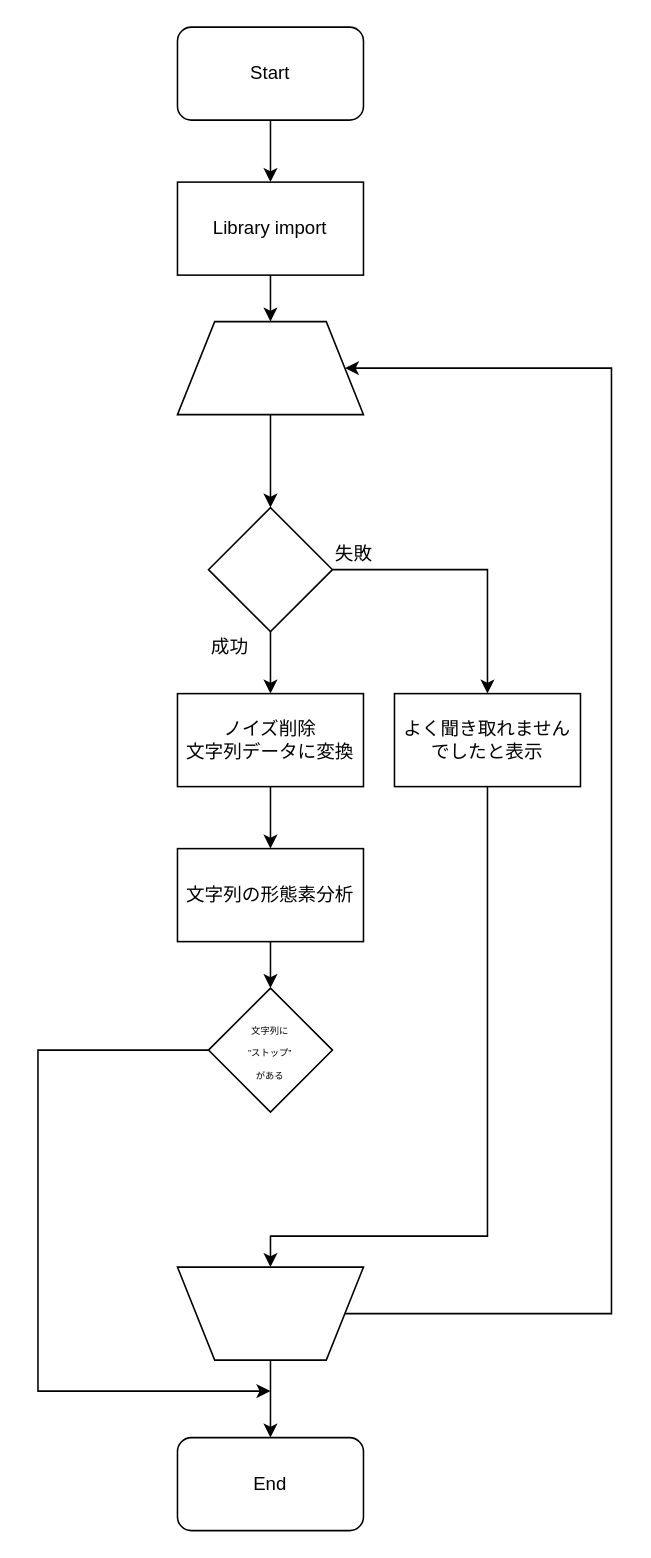
Image size: 651x1558. Some labels were removed from this diagram. The box of each missing label's shape, as (x1, y1, x2, y2) in pixels:
ループエンド: (176, 1266, 363, 1360)
ループスタート: (176, 320, 363, 415)
音声認識: (207, 506, 332, 632)
